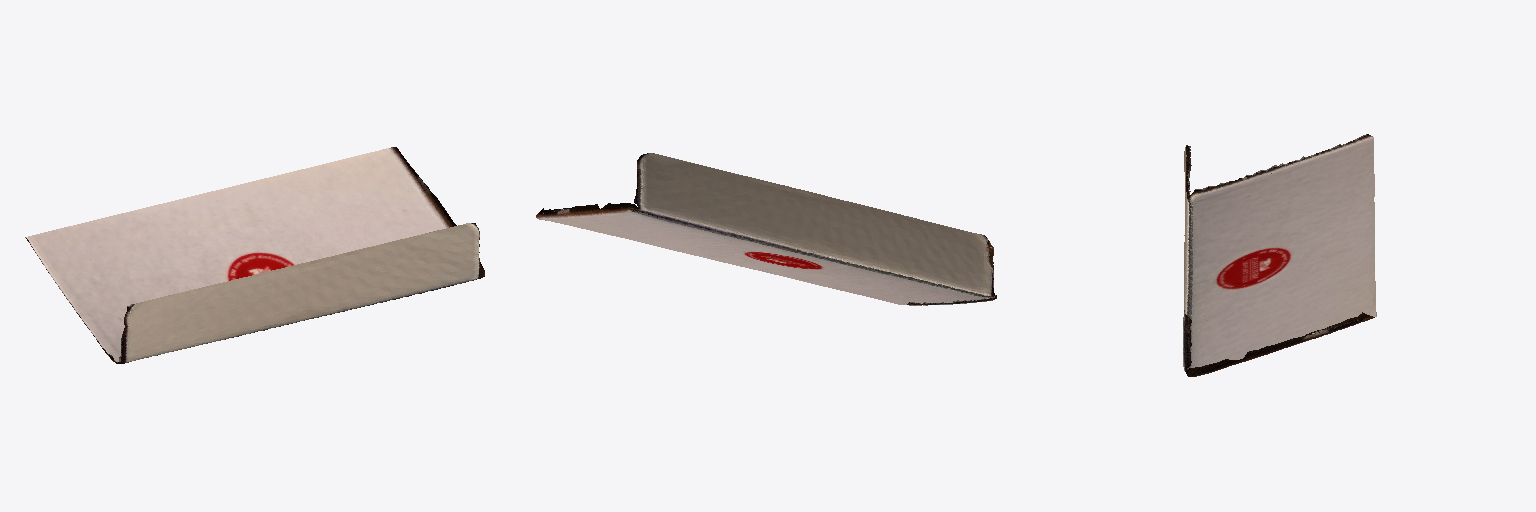
3 renders of one model, left to right at view 1: azimuth 30°, elevation 25°; view 2: azimuth 150°, elevation 25°; view 3: azimuth 270°, elevation 25°, orthographic.
Size of the model in its own units: 0.2166 by 0.0371 by 0.0975.
1 materials, 1 textured.